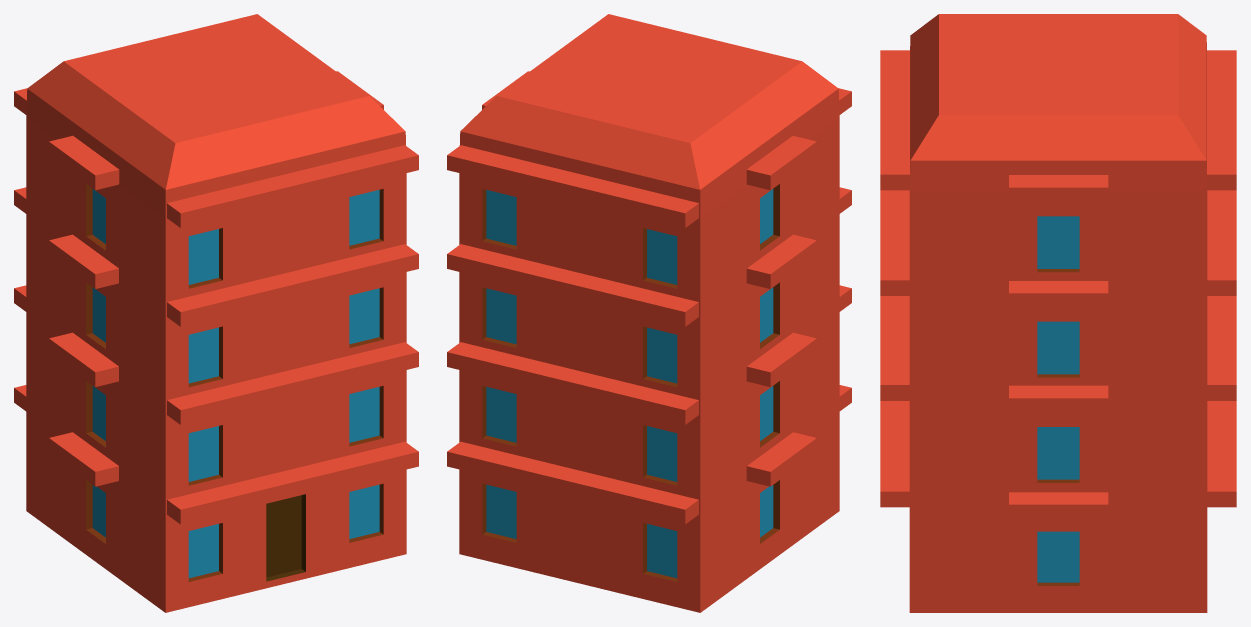
File: apartment2.obj
3 renders of one model, left to right at view 1: azimuth 30°, elevation 25°; view 2: azimuth 150°, elevation 25°; view 3: azimuth 270°, elevation 25°, orthographic. The views are drawn at different scales.
Parts seen in each view (by area): view 1: apartment_Cube.007; view 2: apartment_Cube.007; view 3: apartment_Cube.007.
Part boxes in pixels (x1=…): apartment_Cube.007: x1=14, y1=14, x2=418, y2=612; apartment_Cube.007: x1=447, y1=14, x2=851, y2=612; apartment_Cube.007: x1=880, y1=14, x2=1236, y2=612.
Bounding box in the file's own units: 11.98 × 18 × 11.97.
1 material, 1 textured.
